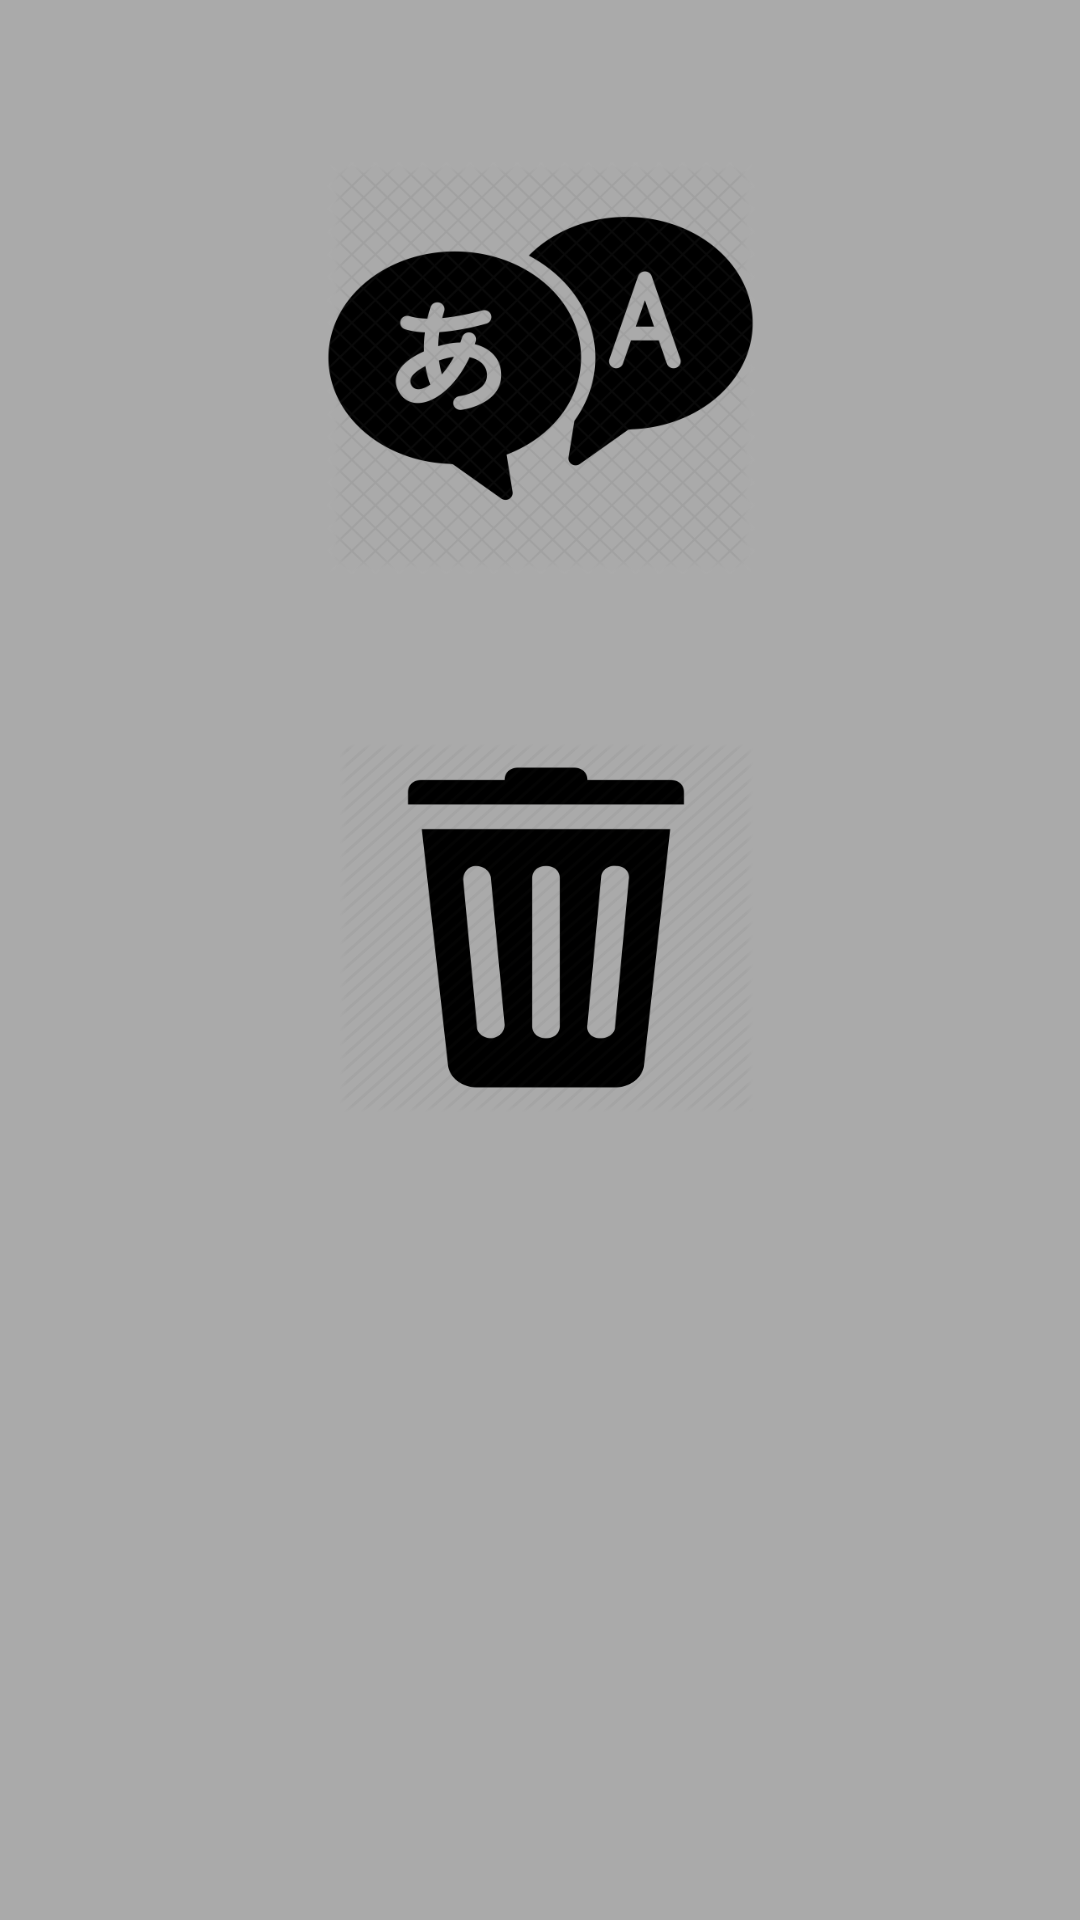

Icon bounding boxes for this 1080 x 1920 phone screenshot, format {"x1": x1, "y1": y1, "x2": x2, "y2": y2}:
bin: {"x1": 407, "y1": 767, "x2": 685, "y2": 1088}
